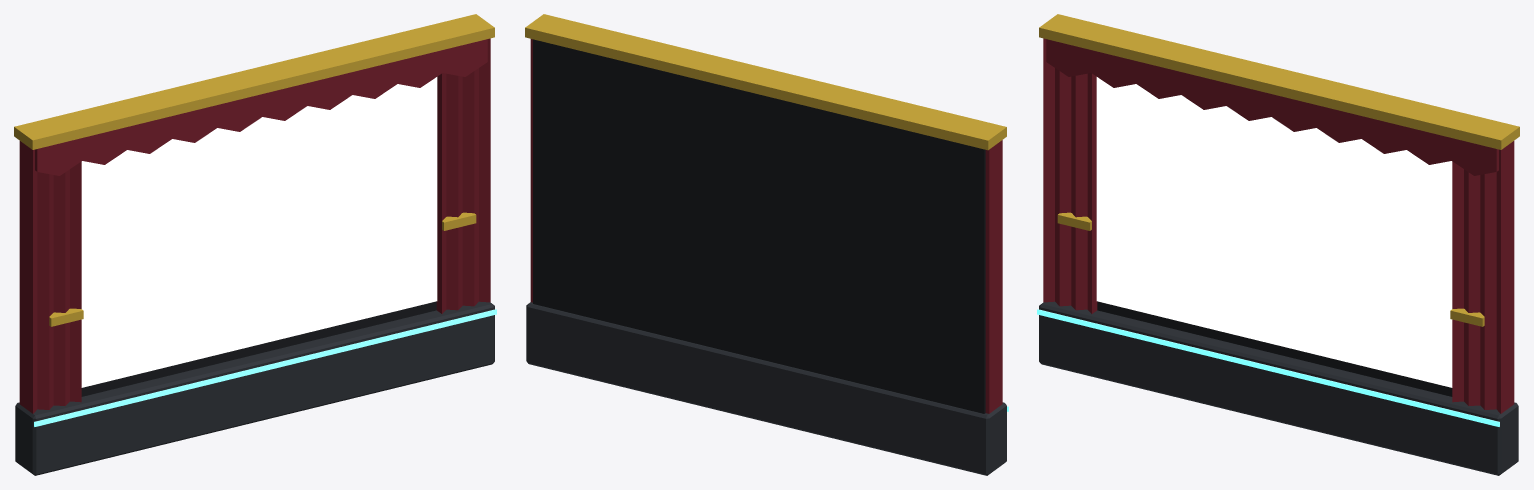
Rendered from cinema_screen.glb.
3 renders of one model, left to right at view 1: azimuth 30°, elevation 25°; view 2: azimuth 150°, elevation 25°; view 3: azimuth 330°, elevation 25°, orthographic.
Parts seen in each view (by area): view 1: cinema_screen; view 2: cinema_screen; view 3: cinema_screen.
Part boxes in pixels (<box>): cinema_screen: <box>14,14,496,475</box>; cinema_screen: <box>525,14,1008,475</box>; cinema_screen: <box>1037,14,1519,475</box>.
Bounding box in the file's own units: 4 × 2.78 × 0.31.
